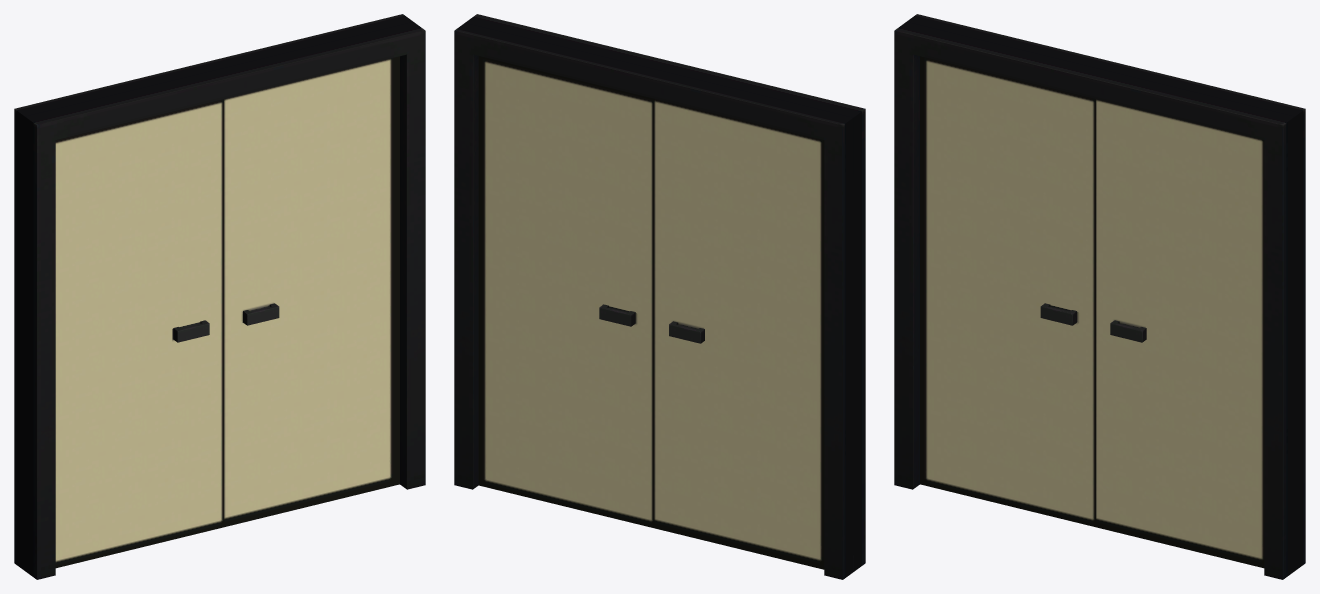
Rendered from Door1.c.fbx.
3 renders of one model, left to right at view 1: azimuth 30°, elevation 25°; view 2: azimuth 150°, elevation 25°; view 3: azimuth 330°, elevation 25°, orthographic.
Parts seen in each view (by area): view 1: Group 0; view 2: Group 0; view 3: Group 0.
Part boxes in pixels (<box>): Group 0: <box>14,14,425,579</box>; Group 0: <box>454,14,865,579</box>; Group 0: <box>894,14,1305,579</box>.
Size of the model in its own units: 200 by 224 by 20.31.
Materials: 3 (3 with a texture image).
